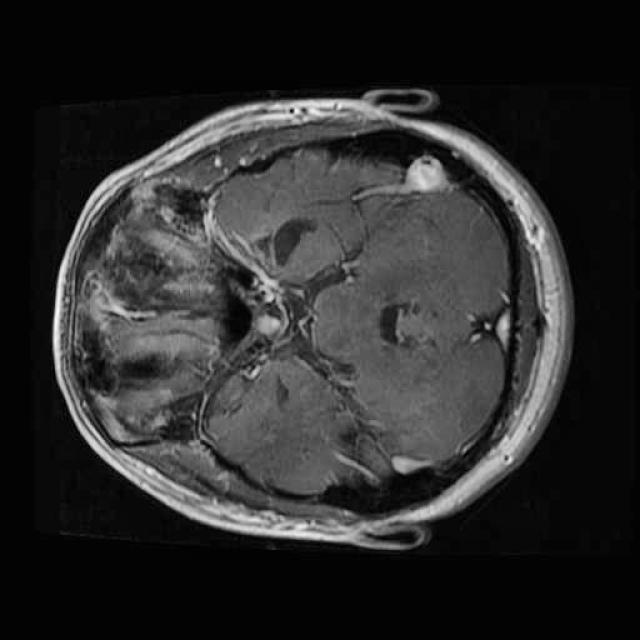Tumor: (255, 206, 334, 270)
